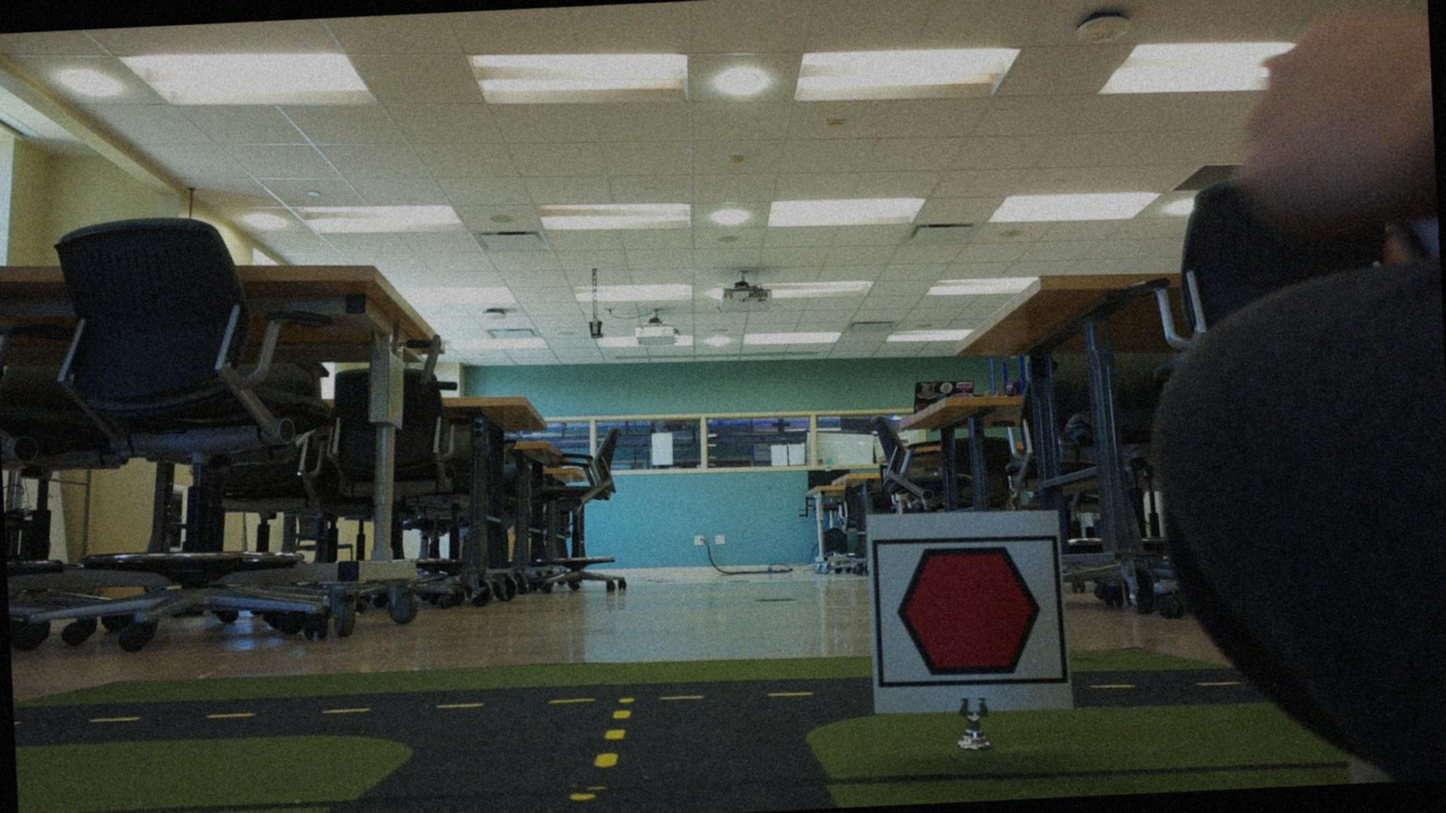stop: (880, 535, 1054, 688)
yellowline: (566, 708, 635, 805)
